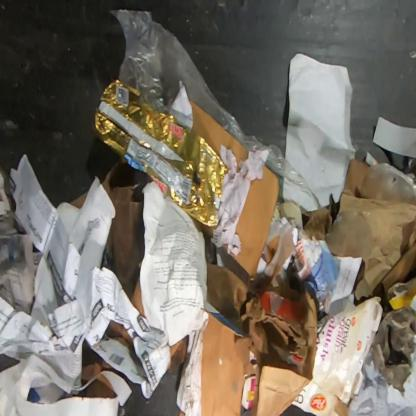cardboard: (200, 261, 318, 415), (292, 296, 384, 415), (101, 158, 145, 316), (230, 162, 280, 281), (189, 99, 248, 171), (300, 249, 339, 304), (257, 290, 305, 325), (342, 158, 374, 200), (388, 276, 415, 315), (167, 335, 189, 375), (69, 192, 87, 209)
soft_plastic: (109, 8, 323, 207), (92, 80, 229, 228), (326, 210, 373, 260), (365, 163, 416, 201)
